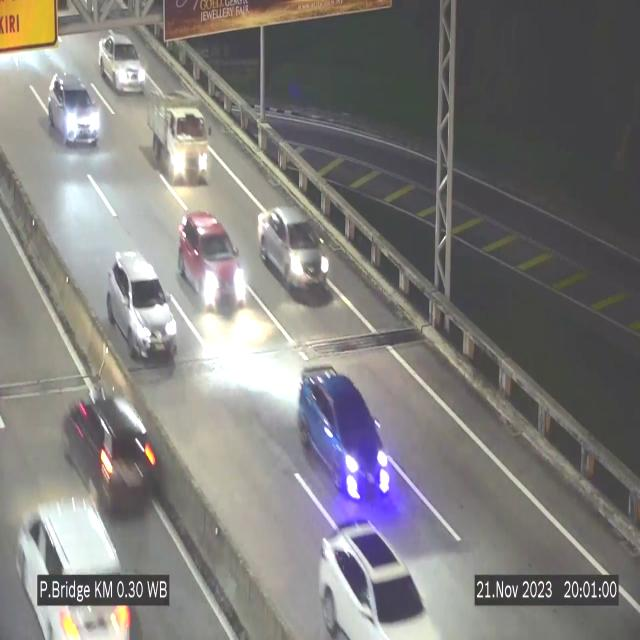Car: (4, 488, 136, 640), (300, 510, 448, 640), (295, 369, 391, 509), (56, 392, 160, 520), (177, 207, 246, 324), (106, 252, 178, 359), (258, 202, 332, 306), (48, 75, 100, 144), (98, 33, 146, 92)
Truck: (145, 86, 214, 186)
